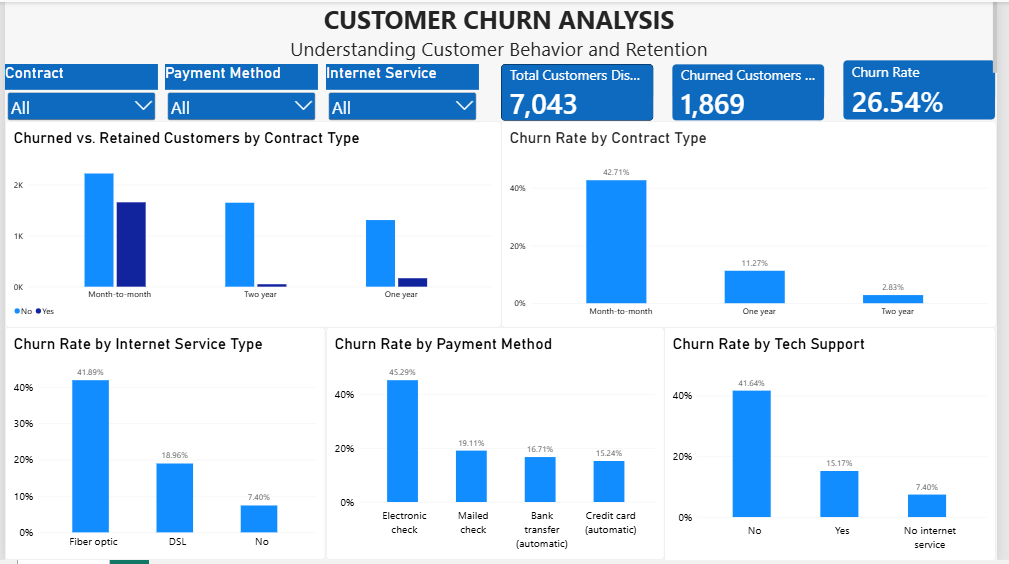

The page's visual inventory and layout, read from the dashboard file:
{"tool":"powerbi","page":{"name":"Page 1","canvas":[1920,1080],"ordinal":0},"visuals":[{"type":"cardVisual","fields":{"Data":["WA_Fn-UseC_-Telco-Customer-Churn.Total Customers Display"]},"box":[960.9,119.1,295.8,110.9],"z":0},{"type":"cardVisual","fields":{"Data":["WA_Fn-UseC_-Telco-Customer-Churn.Churned Customers Display"]},"box":[1290.5,119.1,295.8,110.9],"z":1000},{"type":"cardVisual","fields":{"Data":["WA_Fn-UseC_-Telco-Customer-Churn.Churn Rate"]},"box":[1622.1,112.7,295.8,116.2],"z":2000},{"type":"clusteredColumnChart","title":"Churned vs. Retained Customers by Contract Type","fields":{"Category":["WA_Fn-UseC_-Telco-Customer-Churn.Contract"],"Series":["WA_Fn-UseC_-Telco-Customer-Churn.Churn"],"Y":["CountNonNull(WA_Fn-UseC_-Telco-Customer-Churn.customerID)"]},"box":[0,229.6,960.9,399.7],"z":3000},{"type":"slicer","title":"Contract","fields":{"Values":["WA_Fn-UseC_-Telco-Customer-Churn.Contract"]},"box":[0,119.1,295.8,110.9],"z":4000},{"type":"slicer","title":"Payment Method","fields":{"Values":["WA_Fn-UseC_-Telco-Customer-Churn.PaymentMethod"]},"box":[310.4,119.1,295.8,110.9],"z":5000},{"type":"slicer","title":"Internet Service","fields":{"Values":["WA_Fn-UseC_-Telco-Customer-Churn.InternetService"]},"box":[620.8,119.1,295.8,110.9],"z":6000},{"type":"textbox","box":[0,0,1920,143.7],"z":7000},{"type":"clusteredColumnChart","title":"Churn Rate by Contract Type","fields":{"Category":["WA_Fn-UseC_-Telco-Customer-Churn.Contract"],"Y":["WA_Fn-UseC_-Telco-Customer-Churn.Churn Rate"]},"box":[960.9,229.6,958.8,399.7],"z":7001},{"type":"clusteredColumnChart","title":"Churn Rate by Internet Service Type","fields":{"Category":["WA_Fn-UseC_-Telco-Customer-Churn.InternetService"],"Y":["WA_Fn-UseC_-Telco-Customer-Churn.Churn Rate"]},"box":[0,628.6,620,450.5],"z":7002},{"type":"clusteredColumnChart","title":"Churn Rate by Payment Method","fields":{"Category":["WA_Fn-UseC_-Telco-Customer-Churn.PaymentMethod"],"Y":["WA_Fn-UseC_-Telco-Customer-Churn.Churn Rate"]},"box":[620.8,629.3,654.8,450.7],"z":7003},{"type":"clusteredColumnChart","title":"Churn Rate by Tech Support","fields":{"Category":["WA_Fn-UseC_-Telco-Customer-Churn.TechSupport"],"Y":["WA_Fn-UseC_-Telco-Customer-Churn.Churn Rate"]},"box":[1275.6,629.3,642,452.8],"z":7004}]}

Visuals, with their boxes in screenshot pixels (x1, y1, x2, y2), scaled from the page's 1920x1080 canvas onto the 1009x564 screenshot:
cardVisual - WA_Fn-UseC_-Telco-Customer-Churn.Total Customers Display: <region>505, 62, 660, 120</region>
cardVisual - WA_Fn-UseC_-Telco-Customer-Churn.Churned Customers Display: <region>678, 62, 834, 120</region>
cardVisual - WA_Fn-UseC_-Telco-Customer-Churn.Churn Rate: <region>852, 59, 1008, 120</region>
"Churned vs. Retained Customers by Contract Type" clusteredColumnChart: <region>0, 120, 505, 329</region>
"Contract" slicer: <region>0, 62, 155, 120</region>
"Payment Method" slicer: <region>163, 62, 319, 120</region>
"Internet Service" slicer: <region>326, 62, 482, 120</region>
textbox: <region>0, 0, 1008, 75</region>
"Churn Rate by Contract Type" clusteredColumnChart: <region>505, 120, 1008, 329</region>
"Churn Rate by Internet Service Type" clusteredColumnChart: <region>0, 328, 326, 563</region>
"Churn Rate by Payment Method" clusteredColumnChart: <region>326, 329, 670, 563</region>
"Churn Rate by Tech Support" clusteredColumnChart: <region>670, 329, 1008, 563</region>
